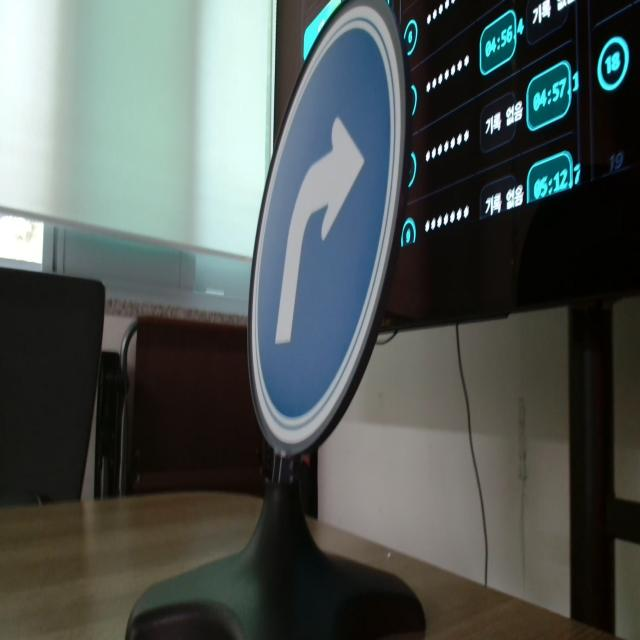right_dierection: (241, 0, 411, 468)
